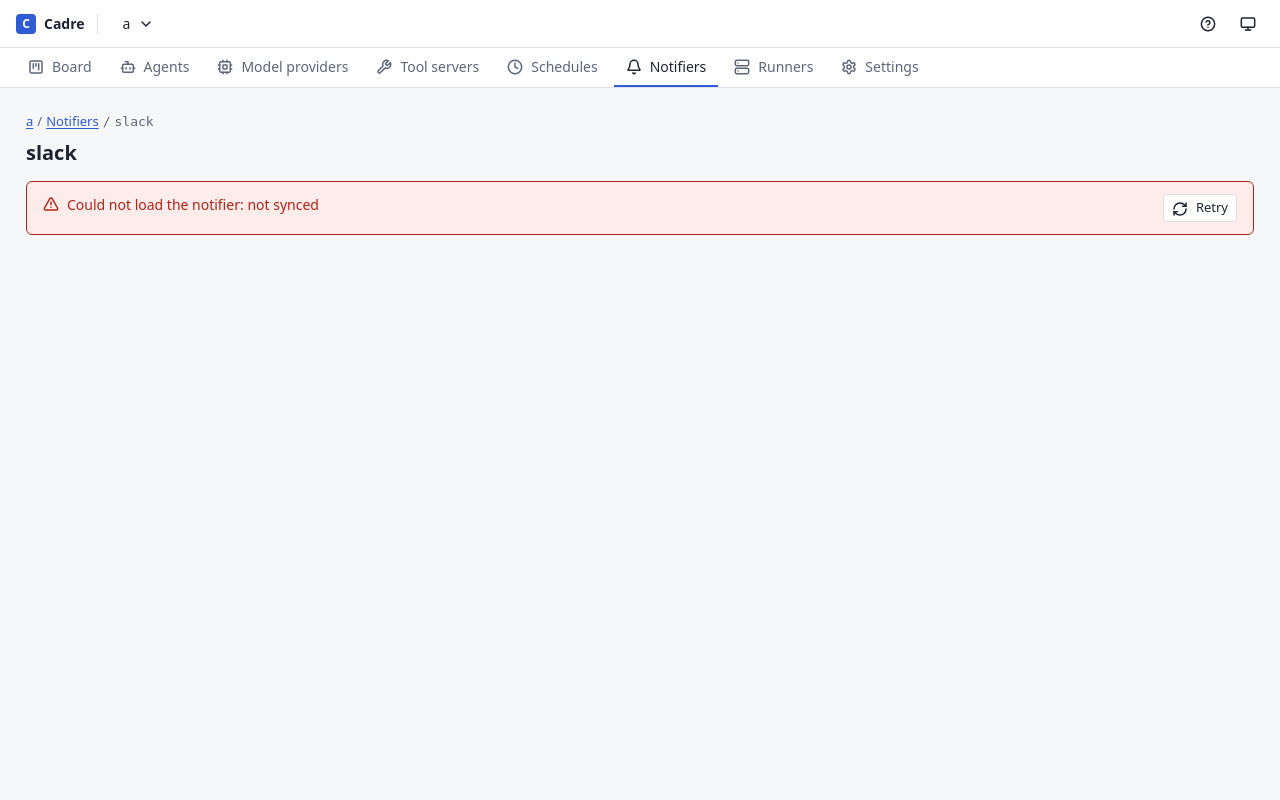
Test: NotifierDetail › shows a failed read with Retry, which reads again
Expected: the text "Could not load the notifier: not synced" is shown, [67, 194, 319, 214]
Click the button "Retry" at [1200, 208], box [1163, 194, 1237, 222]
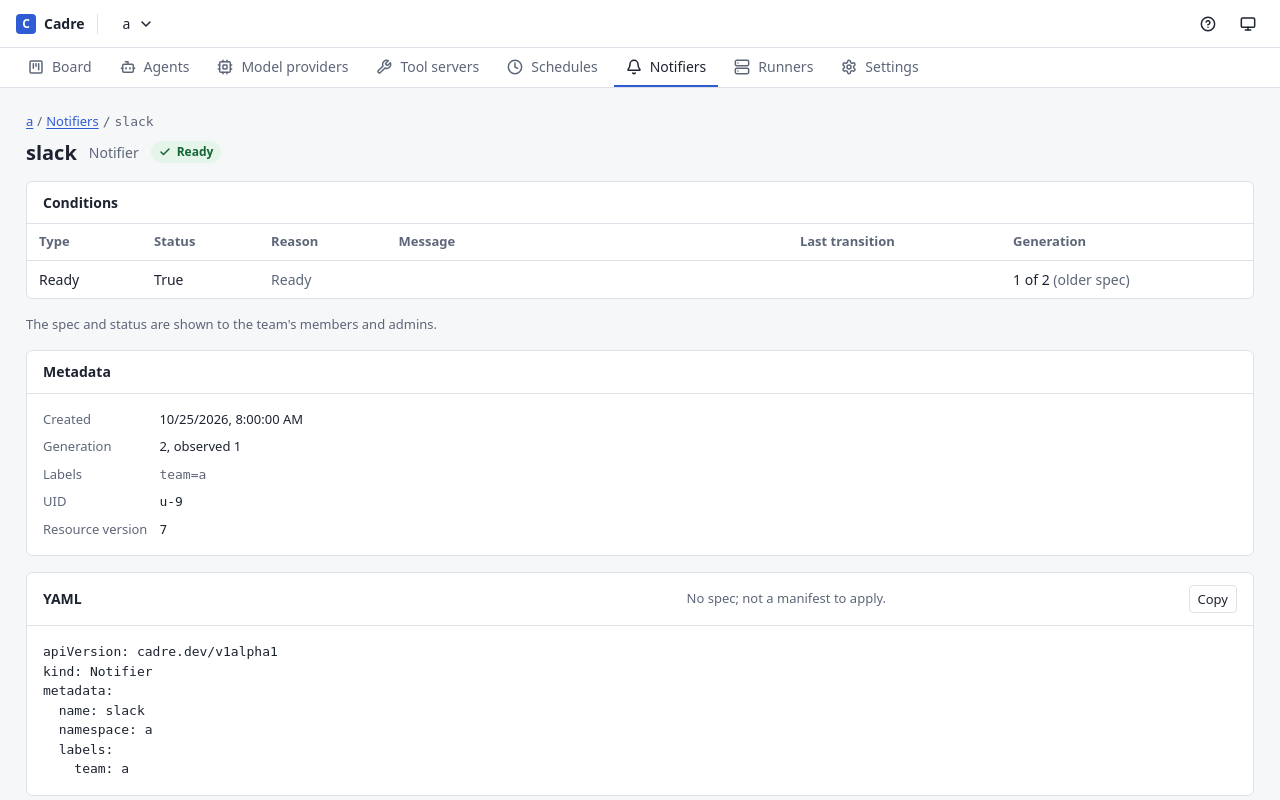
Result: the element named "Conditions table" is shown at [27, 224, 1253, 298]
Result: the text "Could not load the notifier" is gone
